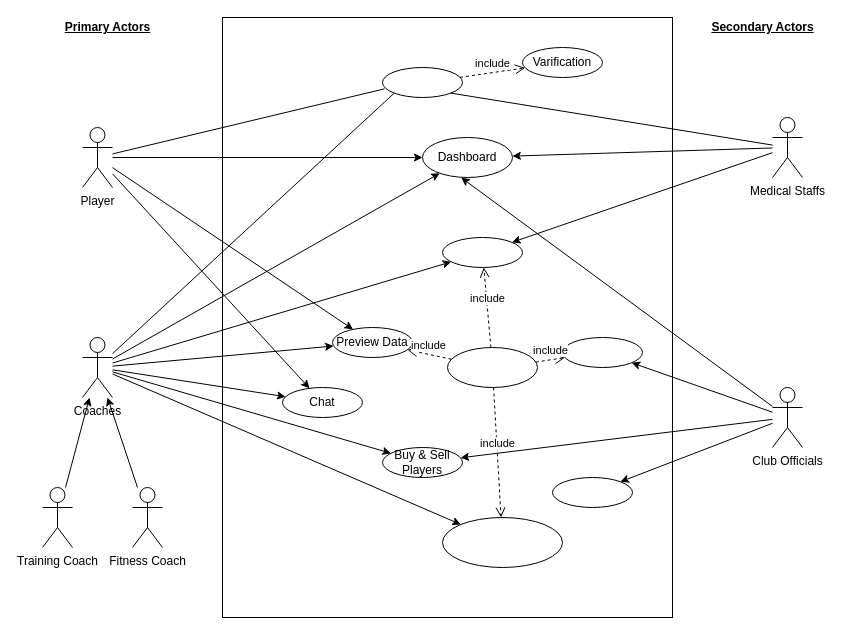
Image size: 842x635. Some labels were removed from this diagram. The box of each missing label's shape, as (x1, y1, x2, y2) in pixels:
Data Management: (446, 346, 538, 388)
Edit Data: (562, 336, 642, 368)
Find Medical History: (442, 236, 522, 268)
Find Player Performance Data: (442, 516, 562, 568)
Login: (382, 66, 462, 98)
Manage Finance: (552, 476, 632, 508)
